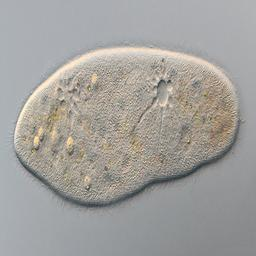Paramecium: (13, 49, 244, 207)
